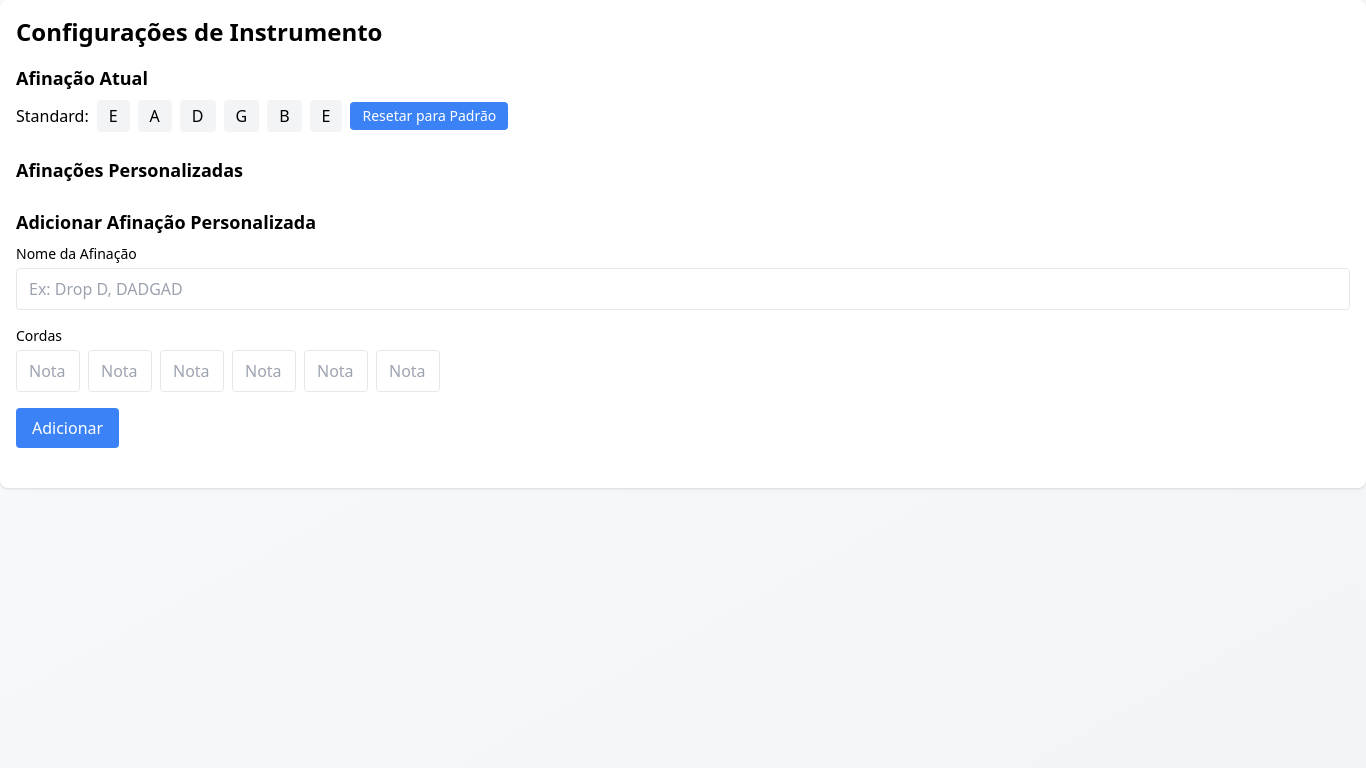
Scenario: InstrumentSettings › allows removing a custom tuning
The width and height of the screenshot is (1366, 768).
Type "To Remove" into the field with placeholder "Ex: Drop D, DADGAD" at (683, 289), box [16,268,1350,310]
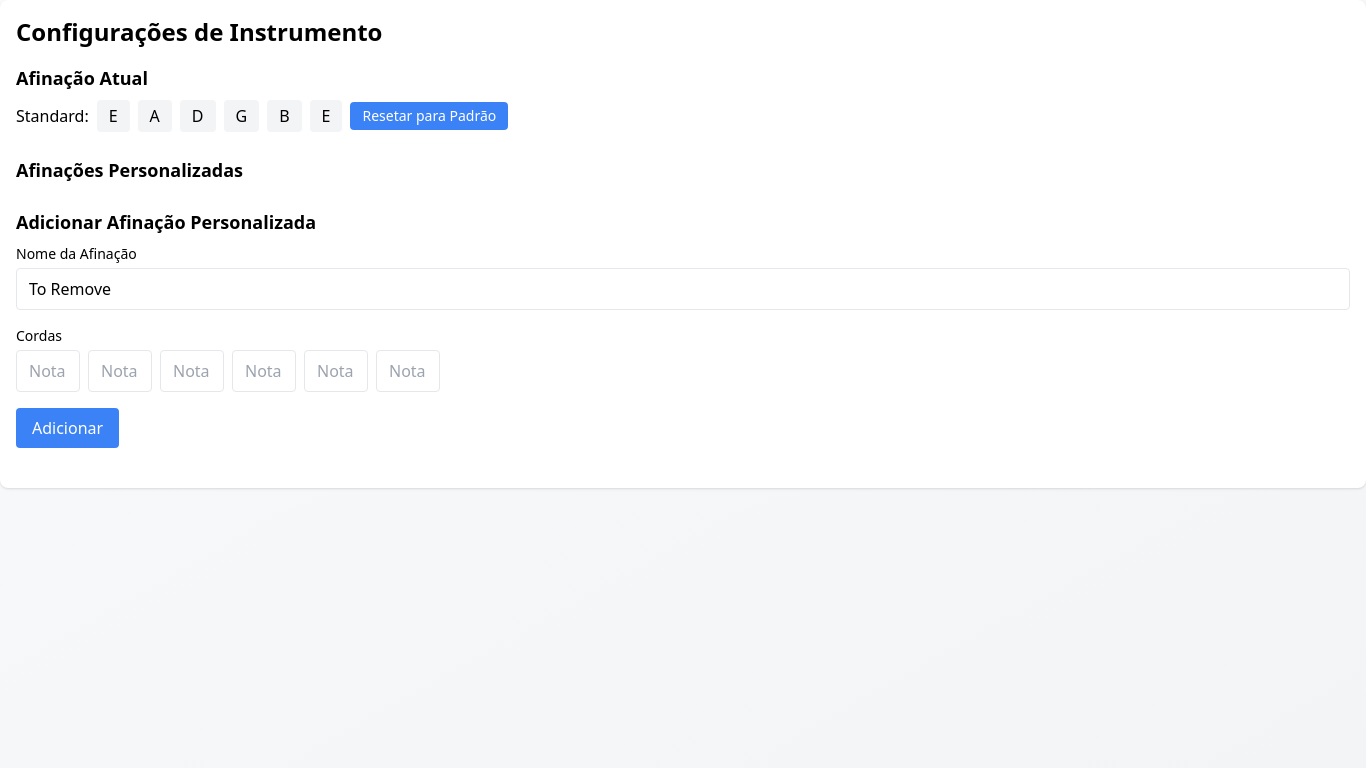
Type "D" into the 1st field with placeholder "Nota" at (48, 371), box [16,350,80,392]
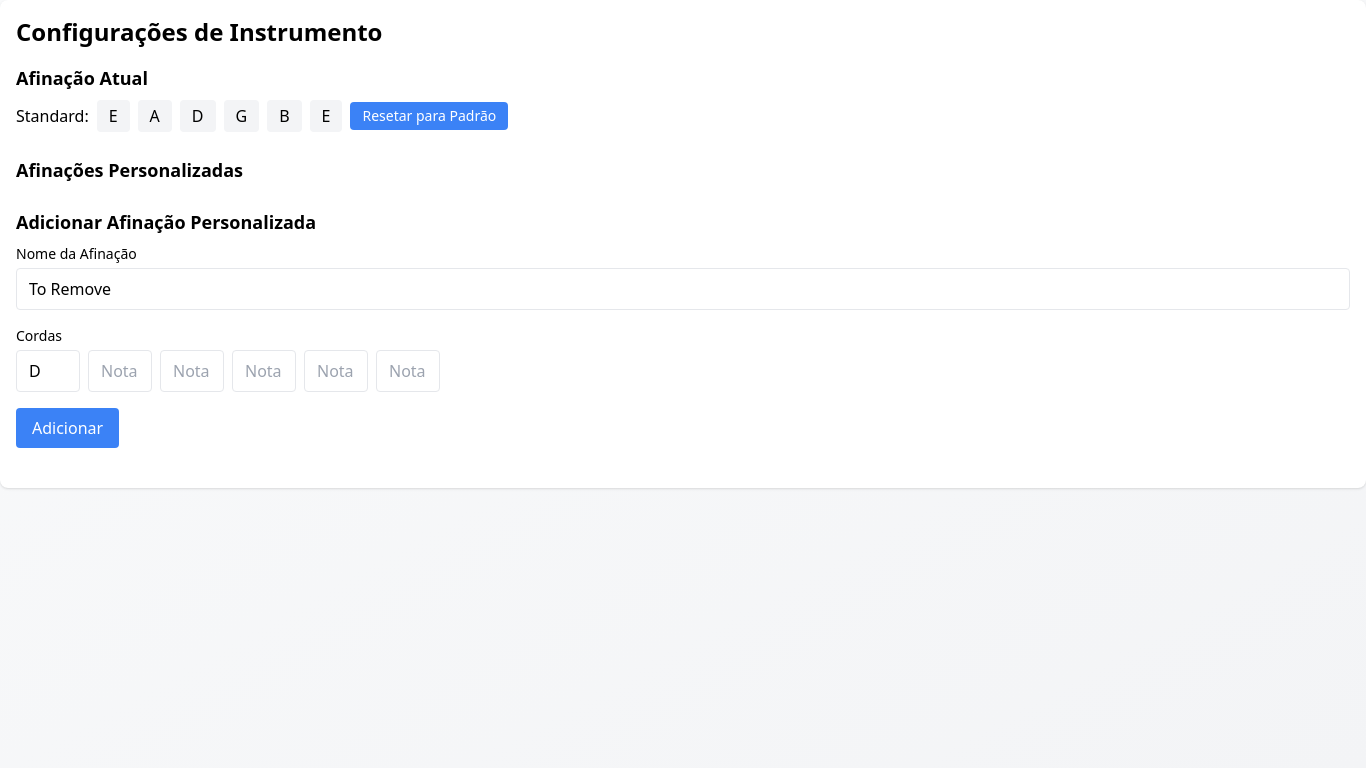
Click the button "Adicionar" at (68, 428), box [16,408,119,448]
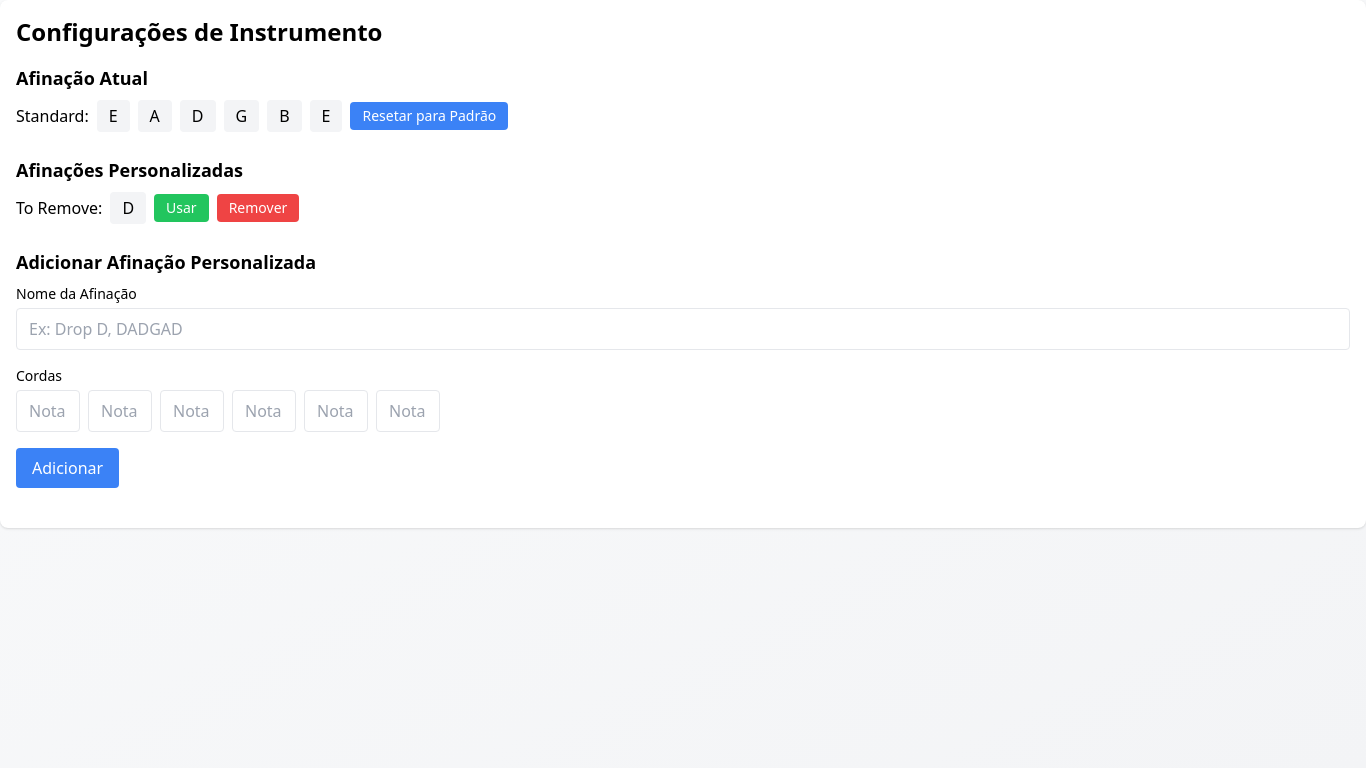
# Then remove it
Click the button "Remover" at (258, 208), box [217,194,299,222]
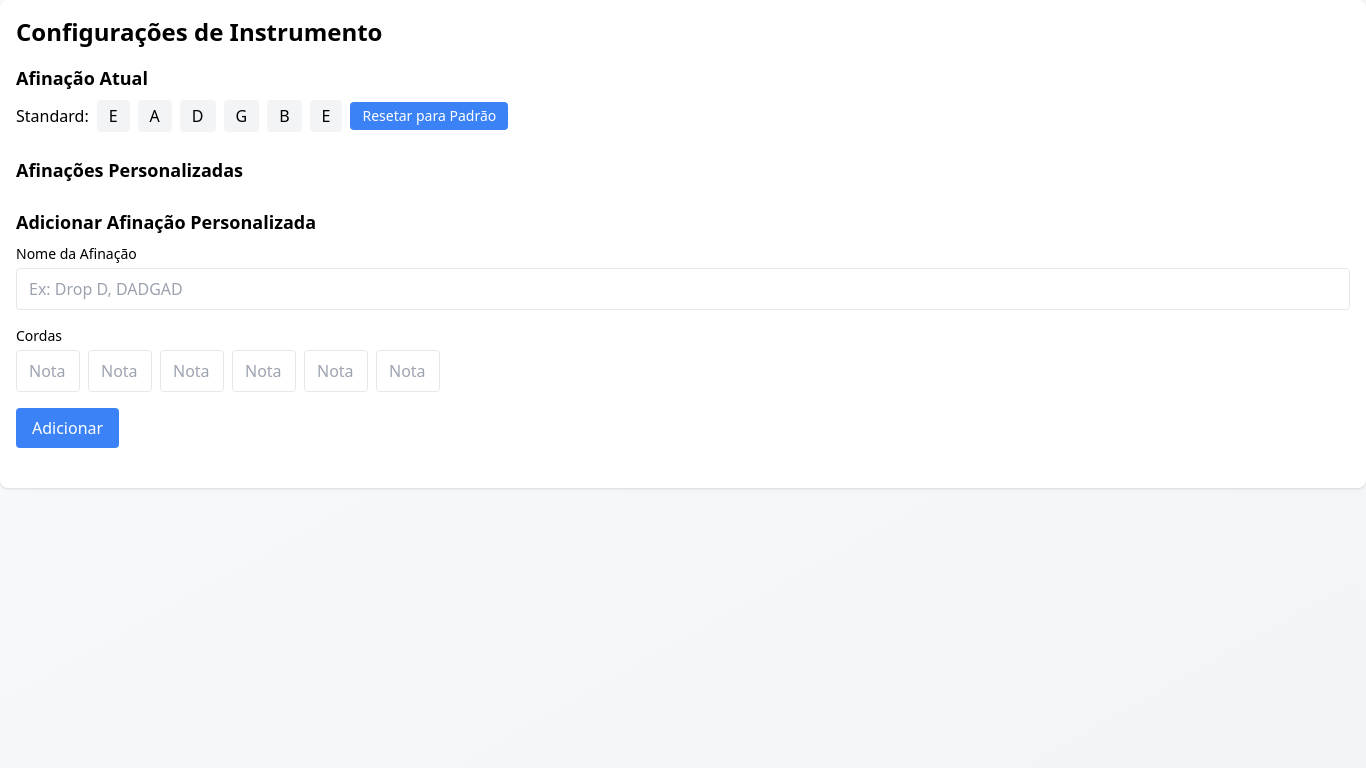
Check: the text "To Remove:" is gone
